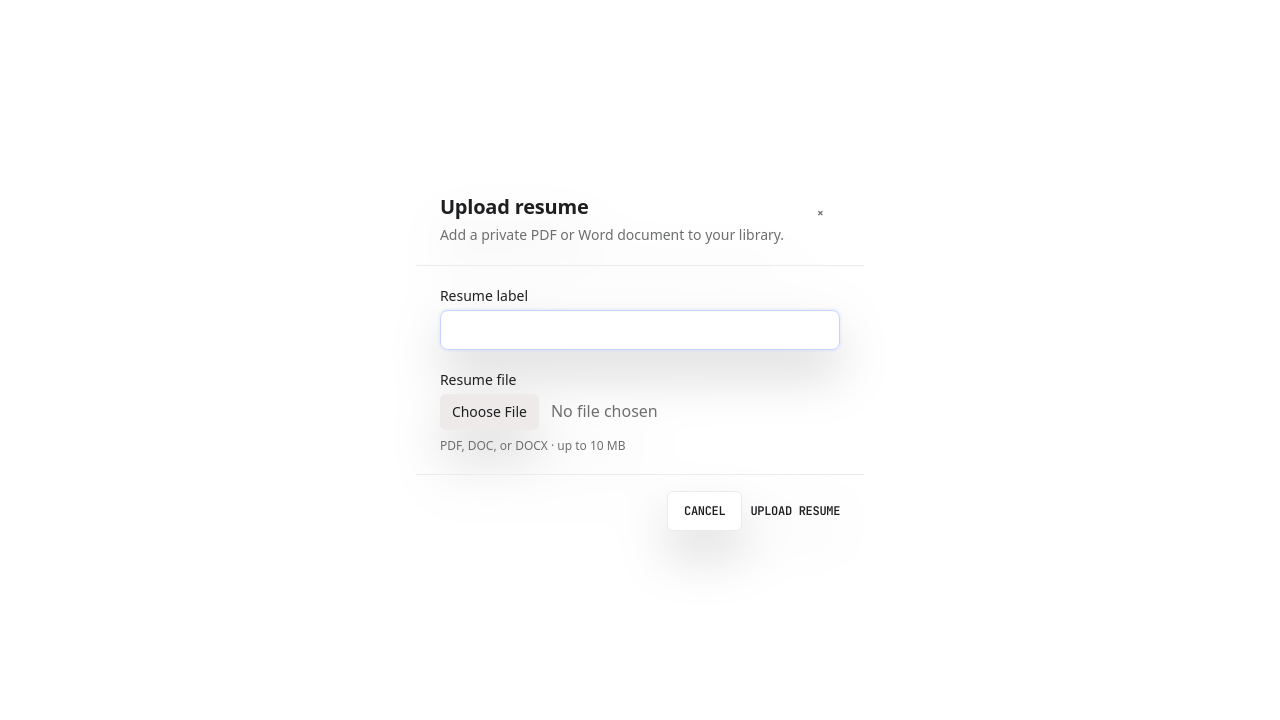
Scenario: ResumeUploadModal › requires a label and a supported file before upload
Click the button "Upload resume".
click(795, 511)  # box [750,491,840,531]
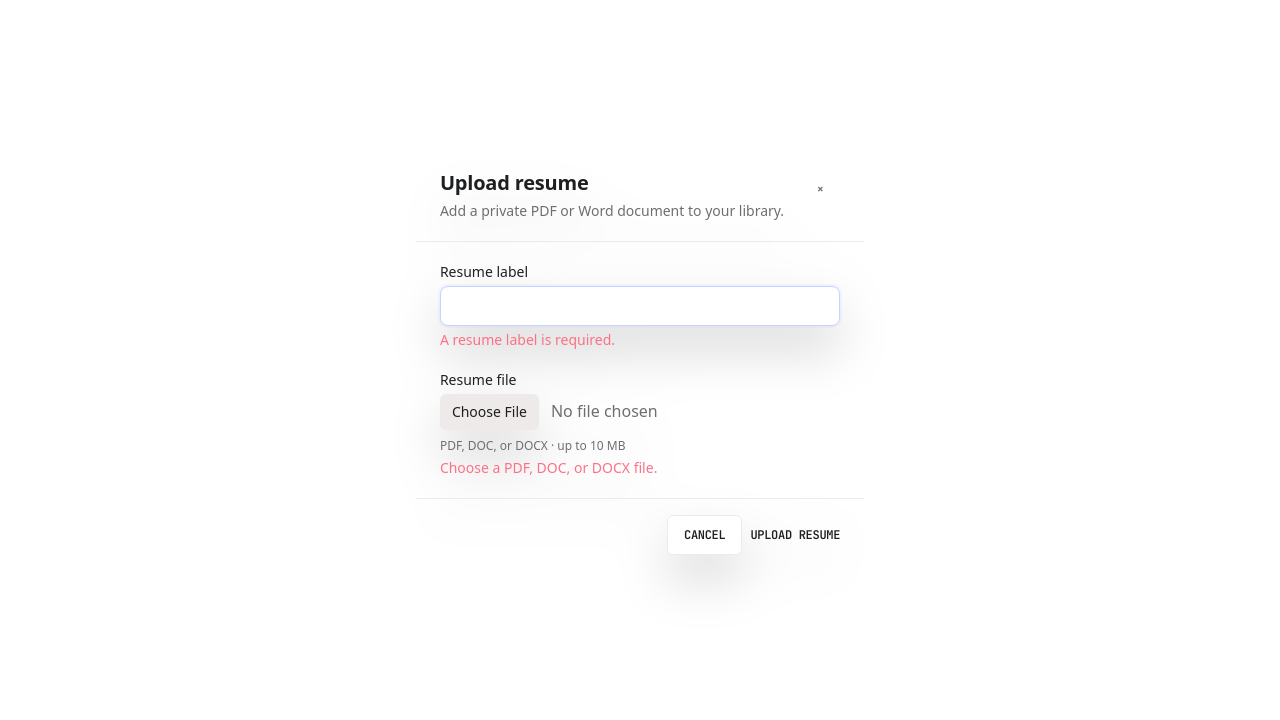
Now the text "A resume label is required." is shown, box [440,330,615,349]
Now the text "Choose a PDF, DOC, or DOCX file." is shown, box [440,458,657,477]
